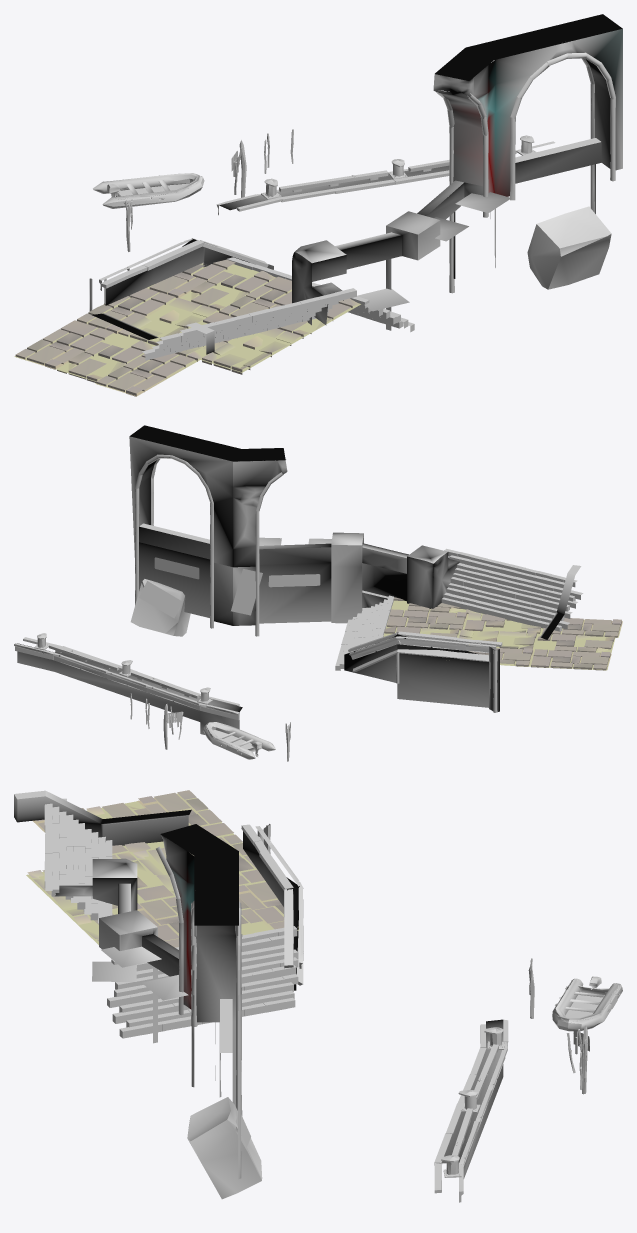
File: start.glb
3 views of the same model, one above another, from view 1: azimuth 30°, elevation 25°; view 2: azimuth 150°, elevation 25°; view 3: azimuth 270°, elevation 25° (orthographic). The views are drawn at different scales.
Parts seen in each view (by area): view 1: wall1, wall2, stone, trim, wall6, wall5, inflatable_boat, TileA_START5, TileA_START8, TileA_START11, TileA_START4, TileA_START9 (+16 smaller); view 2: wall1, wall4, wall2, wall5, trim, stone, TileA_START5, waterside_START6, inflatable_boat, waterside_START10, TileA_START1, waterside_START9 (+17 smaller); view 3: wall1, wall2, wall5, stone, wall6, trim, inflatable_boat, waterside_START1, waterside_START2, TileA_START5, wall3, waterside_START3 (+17 smaller).
Boxes of the visible parts, x1,y1,x2,y2 form: wall1: [386, 14, 622, 330]; wall2: [92, 142, 601, 354]; stone: [527, 206, 611, 289]; trim: [89, 52, 615, 311]; wall6: [294, 192, 511, 311]; wall5: [99, 141, 555, 290]; inflatable_boat: [93, 173, 204, 208]; TileA_START5: [14, 320, 116, 369]; TileA_START8: [201, 328, 302, 374]; TileA_START11: [56, 334, 154, 382]; TileA_START4: [95, 353, 197, 396]; TileA_START9: [180, 265, 276, 311]; wall1: [129, 425, 397, 682]; wall4: [139, 542, 488, 707]; wall2: [17, 526, 581, 734]; wall5: [14, 631, 502, 720]; trim: [135, 454, 497, 712]; stone: [130, 579, 190, 636]; TileA_START5: [529, 649, 611, 670]; waterside_START6: [441, 592, 569, 631]; inflatable_boat: [203, 722, 275, 759]; waterside_START10: [444, 548, 577, 587]; TileA_START1: [386, 609, 467, 630]; waterside_START9: [455, 563, 583, 601]; wall1: [142, 824, 238, 1106]; wall2: [14, 790, 503, 1178]; wall5: [241, 824, 508, 1202]; stone: [187, 1097, 262, 1199]; wall6: [92, 858, 188, 1000]; trim: [156, 824, 270, 1179]; inflatable_boat: [552, 976, 622, 1031]; waterside_START1: [119, 990, 295, 1038]; waterside_START2: [112, 974, 298, 1023]; TileA_START5: [137, 790, 234, 838]; wall3: [286, 877, 503, 1163]; waterside_START3: [107, 957, 298, 1007].
Size of the model in its own units: 14.78 by 5.44 by 10.58.
